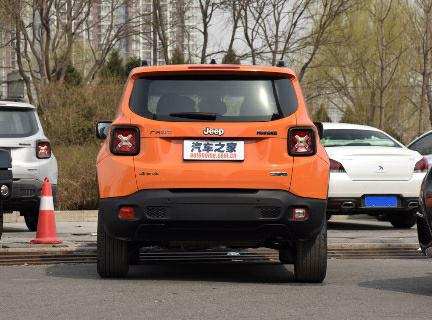Jeep-指南者: (91, 58, 338, 284)
